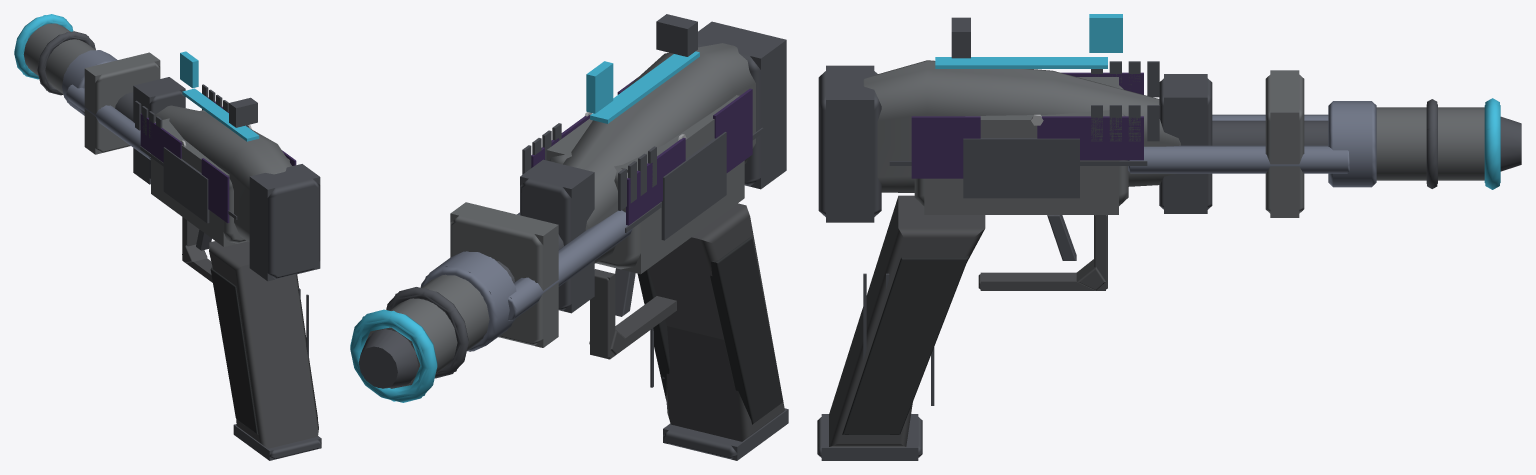
Rendered from qblink.glb.
3 renders of one model, left to right at view 1: azimuth 30°, elevation 25°; view 2: azimuth 150°, elevation 25°; view 3: azimuth 270°, elevation 25°, orthographic. The views are drawn at different scales.
Parts seen in each view (by area): view 1: L0, L1; view 2: L0, L1; view 3: L0, L1.
Part boxes in pixels (<box>): L0: <box>14,14,321,459</box>; L1: <box>20,15,321,460</box>; L0: <box>350,14,788,459</box>; L1: <box>351,21,788,460</box>; L0: <box>817,14,1521,457</box>; L1: <box>821,65,1521,460</box>.
Size of the model in its own units: 0.0455 by 0.1955 by 0.2916.
